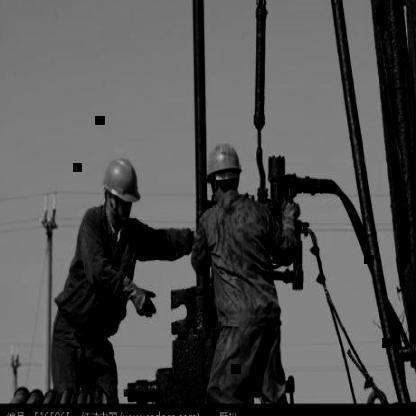helmet: (198, 134, 248, 186), (99, 150, 142, 206)
